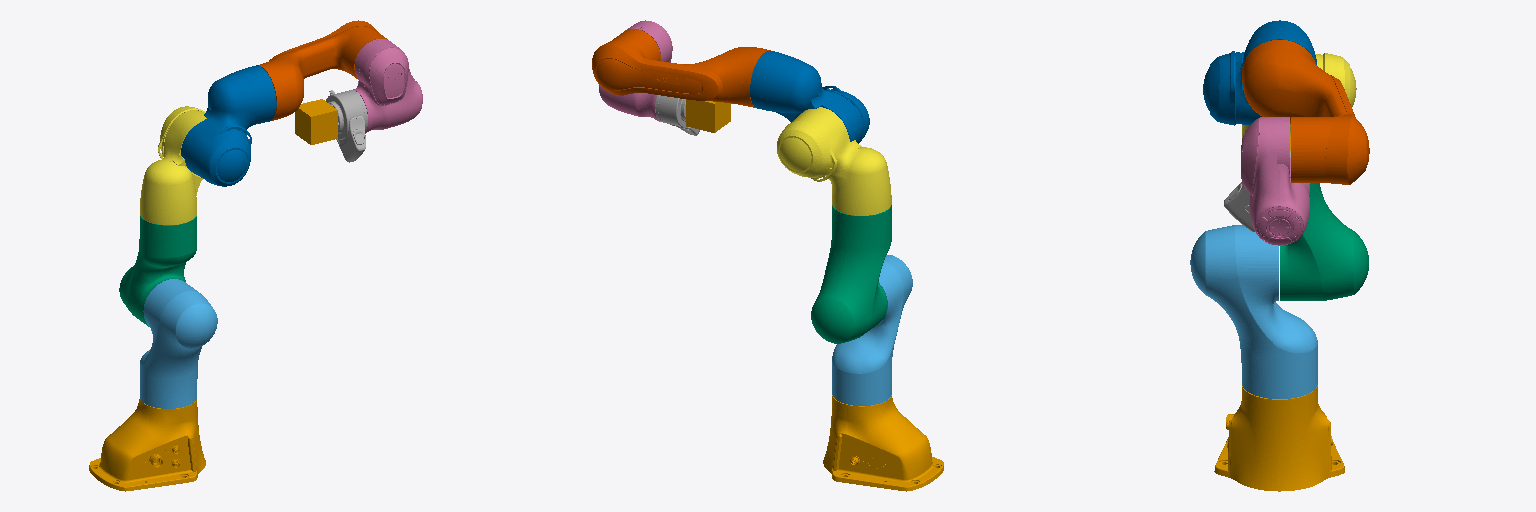
URDF robot description (panda):
<?xml version='1.0' encoding='utf-8'?>
<robot name="panda">

	<link name="link0">
		<inertial>
			<origin xyz="0 0 0.05" rpy="0 0 0" />
			<mass value="4" />
			<inertia ixx="0.4" iyy="0.4" izz="0.4" ixy="0" ixz="0" iyz="0" />
		</inertial>
		<visual>
			<geometry>
				<mesh filename="meshes/visual/link0.obj"/>
			</geometry>
		</visual>
		<!-- <collision>
			<geometry>
				<mesh filename="meshes/collision/link0.obj"/>
			</geometry>
		</collision> -->
	</link>
	<link name="link1">
		<inertial>
			<origin xyz="0 0 -0.07" rpy="0 -0 0" />
			<mass value="3" />
			<inertia ixx="0.3" iyy="0.3" izz="0.3" ixy="0" ixz="0" iyz="0" />
		</inertial>
		<visual>
			<geometry>
				<mesh filename="meshes/visual/link1.obj"/>
			</geometry>
		</visual>
		<!-- <collision>
			<geometry>
				<mesh filename="meshes/collision/link1.obj"/>
			</geometry>
		</collision> -->
	</link>
	<link name="link2">
		<inertial>
			<origin xyz="0 -0.1 0" rpy="0 -0 0" />
			<mass value="3" />
			<inertia ixx="0.3" iyy="0.3" izz="0.3" ixy="0" ixz="0" iyz="0" />
		</inertial>
		<visual>
			<geometry>
				<mesh filename="meshes/visual/link2.obj"/>
			</geometry>
		</visual>
		<!-- <collision>
			<geometry>
				<mesh filename="meshes/collision/link2.obj"/>
			</geometry>
		</collision> -->
	</link>
	<link name="link3">
		<inertial>
			<origin xyz="0.04 0 -0.05" rpy="0 -0 0" />
			<mass value="2" />
			<inertia ixx="0.2" iyy="0.2" izz="0.2" ixy="0" ixz="0" iyz="0" />
		</inertial>
		<visual>
			<geometry>
				<mesh filename="meshes/visual/link3.obj"/>
			</geometry>
		</visual>
		<!-- <collision>
			<geometry>
				<mesh filename="meshes/collision/link3.obj"/>
			</geometry>
		</collision> -->
	</link>
	<link name="link4">
		<inertial>
			<origin xyz="-0.04 0.05 0" rpy="0 -0 0" />
			<mass value="2" />
			<inertia ixx="0.2" iyy="0.2" izz="0.2" ixy="0" ixz="0" iyz="0" />
		</inertial>
		<visual>
			<geometry>
				<mesh filename="meshes/visual/link4.obj"/>
			</geometry>
		</visual>
		<!-- <collision>
			<geometry>
				<mesh filename="meshes/collision/link4.obj"/>
			</geometry>
		</collision> -->
	</link>
	<link name="link5">
		<inertial>
			<origin xyz="0 0 -0.15" rpy="0 -0 0" />
			<mass value="2" />
			<inertia ixx="0.2" iyy="0.2" izz="0.2" ixy="0" ixz="0" iyz="0" />
		</inertial>
		<visual>
			<geometry>
				<mesh filename="meshes/visual/link5.obj"/>
			</geometry>
		</visual>
		<!-- <collision>
			<geometry>
				<mesh filename="meshes/collision/link5.obj"/>
			</geometry>
		</collision> -->
	</link>
	<link name="link6">
		<inertial>
			<origin xyz="0.06 0 0" rpy="0 -0 0" />
			<mass value="1.5" />
			<inertia ixx="0.1" iyy="0.1" izz="0.1" ixy="0" ixz="0" iyz="0" />
		</inertial>
		<visual>
			<geometry>
				<mesh filename="meshes/visual/link6.obj"/>
			</geometry>
		</visual>
		<!-- <collision>
			<geometry>
				<mesh filename="meshes/collision/link6.obj"/>
			</geometry>
		</collision> -->
	</link>
	<link name="link7">
		<inertial>
			<origin xyz="0 0 0.17" rpy="0 -0 0" />
			<mass value="1.8" />
			<inertia ixx="0.09" iyy="0.05" izz="0.07" ixy="0" ixz="0" iyz="0" />
		</inertial>
		<visual>
			<geometry>
				<mesh filename="meshes/visual/link7.obj"/>
			</geometry>
		</visual>
		<!-- <collision>
			<geometry>
				<mesh filename="meshes/collision/link7.obj"/>
			</geometry>
		</collision> -->
	</link>
	<link name="end-effector">
		<inertial>
			<origin xyz="0 0 0" rpy="0 -0 0" />
			<mass value="0.2" />
			<inertia ixx="0.01" iyy="0.01" izz="0.01" ixy="0" ixz="0" iyz="0" />
		</inertial>
		<visual>
			<geometry>
				<box size="0.06 0.06 0.06" />
			</geometry>
		</visual>
		<collision>
			<geometry>
				<box size="0.06 0.06 0.06" />
			</geometry>
		</collision>
	</link>

	<joint name="joint1" type="revolute">
		<safety_controller k_position="100.0" k_velocity="40.0" soft_lower_limit="-2.8973" soft_upper_limit="2.8973"/>
		<origin rpy="0 0 0" xyz="0 0 0.333"/>
		<!-- <origin rpy="1.57079632679 0 1.57079632679" xyz="0.333 0 0.8"/> -->
		<parent link="link0"/>
		<child link="link1"/>
		<axis xyz="0 0 1"/>
		<calibration falling="0.0" />
		<limit effort="87" lower="-2.8973" upper="2.8973" velocity="2.1750"/>
	</joint>
	<joint name="joint2" type="revolute">
		<safety_controller k_position="100.0" k_velocity="40.0" soft_lower_limit="-1.7628" soft_upper_limit="1.7628"/>
		<origin rpy="-1.57079632679 0 0" xyz="0 0 0"/>
		<parent link="link1"/>
		<child link="link2"/>
		<axis xyz="0 0 1"/>
		<calibration falling="-25.0" />
		<limit effort="87" lower="-1.7628" upper="1.7628" velocity="2.1750"/>
	</joint>
	<joint name="joint3" type="revolute">
		<safety_controller k_position="100.0" k_velocity="40.0" soft_lower_limit="-2.8973" soft_upper_limit="2.8973"/>
		<origin rpy="1.57079632679 0 0" xyz="0 -0.316 0"/>
		<parent link="link2"/>
		<child link="link3"/>
		<axis xyz="0 0 1"/>
		<limit effort="87" lower="-2.8973" upper="2.8973" velocity="2.1750"/>
	</joint>
	<joint name="joint4" type="revolute">
		<safety_controller k_position="100.0" k_velocity="40.0" soft_lower_limit="-3.0718" soft_upper_limit="-0.0698"/>
		<origin rpy="1.57079632679 0 0" xyz="0.0825 0 0"/>
		<parent link="link3"/>
		<child link="link4"/>
		<axis xyz="0 0 1"/>
		<calibration falling="-135.0" />
		<limit effort="87" lower="-3.0718" upper="-0.0698" velocity="2.1750"/>
	</joint>
	<joint name="joint5" type="revolute">
		<safety_controller k_position="100.0" k_velocity="40.0" soft_lower_limit="-2.8973" soft_upper_limit="2.8973"/>
		<origin rpy="-1.57079632679 0 0" xyz="-0.0825 0.384 0"/>
		<parent link="link4"/>
		<child link="link5"/>
		<axis xyz="0 0 1"/>
		<calibration falling="0.0" />
		<limit effort="12" lower="-2.8973" upper="2.8973" velocity="2.6100"/>
	</joint>
	<joint name="joint6" type="revolute">
		<safety_controller k_position="100.0" k_velocity="40.0" soft_lower_limit="-0.0175" soft_upper_limit="3.7525"/>
		<origin rpy="1.57079632679 0 0" xyz="0 0 0"/>
		<parent link="link5"/>
		<child link="link6"/>
		<axis xyz="0 0 1"/>
		<calibration falling="105.0" />
		<limit effort="12" lower="-0.0175" upper="3.7525" velocity="2.6100"/>
	</joint>
	<joint name="joint7" type="revolute">
		<safety_controller k_position="100.0" k_velocity="40.0" soft_lower_limit="-2.8973" soft_upper_limit="2.8973"/>
		<origin rpy="1.57079632679 0 0" xyz="0.088 0 0"/>
		<parent link="link6"/>
		<child link="link7"/>
		<axis xyz="0 0 1"/>
		<limit effort="12" lower="-2.8973" upper="2.8973" velocity="2.6100"/>
	</joint>
	<joint name="joint_ee" type="fixed">
		<origin rpy="0 0 0" xyz="0 0 0.14"/>
		<parent link="link7"/>
		<child link="end-effector"/>
	</joint>
</robot>

--- Facts derived from the render (not from the file) ---
3 views of the same robot in one strip: view 1: azimuth 30°, elevation 25°; view 2: azimuth 150°, elevation 25°; view 3: azimuth 270°, elevation 25° (orthographic).
Robot: panda — 9 links, 8 joints (7 revolute, 1 fixed); root link link0; default pose: joints at zero except 1 at the middle of their limits (joint4 = -1.57).
Visible links, largest first — view 1: link0, link1, link4, link3, link5, link6, link2, link7, end-effector; view 2: link0, link5, link2, link3, link1, link4, link6, end-effector, link7; view 3: link1, link5, link0, link2, link6, link4, link3, link7.
Link boxes in pixels (x1,y1,x2,y2): link0: (89, 399, 205, 491); link1: (140, 279, 217, 408); link4: (181, 66, 276, 186); link3: (140, 106, 206, 224); link5: (256, 20, 387, 121); link6: (353, 39, 422, 133); link2: (119, 216, 196, 326); link7: (326, 90, 367, 162); end-effector: (295, 99, 337, 144); link0: (823, 395, 943, 491); link5: (592, 29, 770, 107); link2: (811, 205, 891, 343); link3: (777, 107, 891, 215); link1: (832, 255, 912, 405); link4: (750, 51, 869, 143); link6: (599, 20, 672, 121); end-effector: (686, 99, 730, 132); link7: (655, 95, 699, 135); link1: (1190, 225, 1317, 398); link5: (1242, 40, 1369, 184); link0: (1214, 385, 1344, 491); link2: (1280, 183, 1368, 300); link6: (1241, 117, 1309, 245); link4: (1203, 20, 1316, 125); link3: (1242, 53, 1356, 137); link7: (1224, 151, 1309, 231).
Size in the robot's own frame: 0.7022 by 0.2593 by 0.7865 metres.
8 mesh visuals loaded from 8 distinct referenced files (8 OBJ).